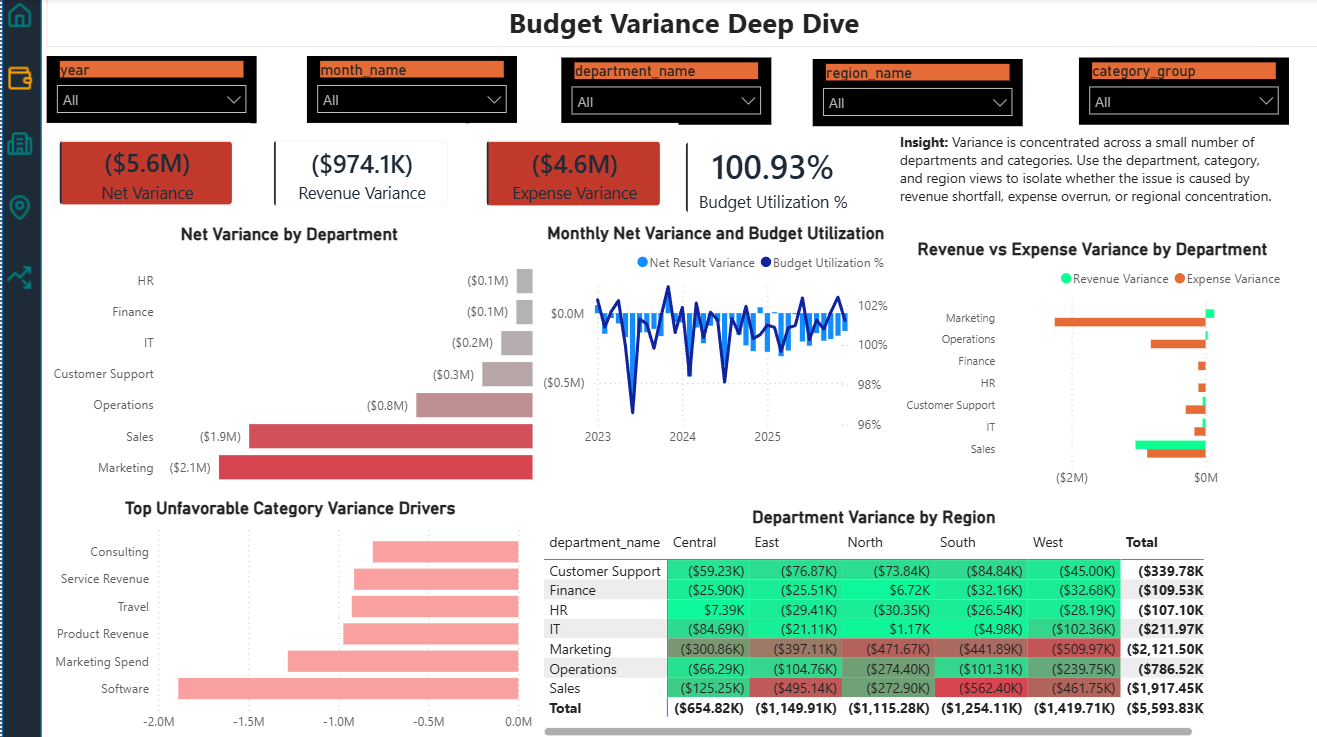

This screenshot's page, from the dashboard's own definition file:
{"tool":"powerbi","page":{"name":"Budget Variance Deep Dive","canvas":[1280,720],"ordinal":1},"visuals":[{"type":"shape","box":[0,0,38.3,720],"z":0,"group":"g1"},{"type":"slicer","fields":{"Values":["dim_date.year"]},"box":[42.7,56.9,203.9,65.2],"z":0},{"type":"slicer","fields":{"Values":["dim_date.month_name"]},"box":[296.3,56.9,203.9,65.2],"z":1000},{"type":"actionButton","box":[0,60,40,34.3],"z":1000,"group":"g1"},{"type":"slicer","fields":{"Values":["dim_department.department_name"]},"box":[542.8,58.1,203.9,65.2],"z":2000},{"type":"actionButton","box":[0,124.3,40,34.3],"z":2000,"group":"g1"},{"type":"slicer","fields":{"Values":["dim_region.region_name"]},"box":[785.8,59.3,203.9,65.2],"z":3000},{"type":"actionButton","box":[0,185.7,40,34.3],"z":3000,"group":"g1"},{"type":"slicer","fields":{"Values":["dim_category.category_group"]},"box":[1044.1,58.1,203.9,65.2],"z":4000},{"type":"actionButton","box":[0,254.3,40,34.3],"z":4000,"group":"g1"},{"type":"actionButton","box":[0,0,40,34.3],"z":5000,"group":"g1"},{"type":"textbox","box":[42.8,0,1236.4,47.1],"z":5000},{"type":"cardVisual","fields":{"Data":["_Measures.Net Variance"]},"box":[39.1,120.6,202.7,97.2],"z":6000},{"type":"cardVisual","fields":{"Data":["_Measures.Revenue Variance"]},"box":[246,120.6,203.2,98.2],"z":7000},{"type":"cardVisual","fields":{"Data":["_Measures.Expense Variance"]},"box":[453.4,120.6,203.2,98.2],"z":8000},{"type":"clusteredBarChart","title":"Net Variance by Department","fields":{"Y":["_Measures.Net Variance"],"Category":["dim_department.department_name"]},"box":[37.9,219.3,482.4,265.5],"z":9000},{"type":"clusteredBarChart","title":"Top Unfavorable Category Variance Drivers","fields":{"Category":["dim_category.category_name"],"Y":["_Measures.Unfavorable Net Result Variance"]},"box":[39.1,484.7,481.2,235.9],"z":10000},{"type":"clusteredBarChart","title":"Revenue vs Expense Variance by Department","fields":{"Category":["dim_department.department_name"],"Y":["_Measures.Revenue Variance","_Measures.Expense Variance"]},"box":[866.2,234.4,384,250],"z":11000},{"type":"lineClusteredColumnComboChart","title":"Monthly Net Variance and Budget Utilization","fields":{"Category":["vw_monthly_budget_vs_actual.month_start_fixed"],"Y":["_Measures.Net Variance"],"Y2":["_Measures.Budget Utilization %"]},"box":[520,218,346,226],"z":12000},{"type":"pivotTable","title":"Department Variance by Region","fields":{"Rows":["dim_department.department_name"],"Columns":["dim_region.region_name"],"Values":["_Measures.Net Variance"]},"box":[520.2,493.4,649.7,227.7],"z":13000},{"type":"textbox","box":[866.2,125,381.8,82.6],"z":14000},{"type":"actionButton","box":[0,686.5,40.2,33.5],"z":15000},{"type":"cardVisual","fields":{"Data":["_Measures.Budget Utilization %"]},"box":[646,122,203,103],"z":16000},{"type":"group","id":"g1","title":"Group 1","box":[0,0,40,720],"z":17000}]}

Visuals, with their boxes on the page's 1280x720 design canvas (x1, y1, x2, y2). These are canvas units, not pixel positions in the 1317x737 screenshot, which may show the page scaled, cropped or inside an application window:
shape: region(0, 0, 38, 720)
slicer - dim_date.year: region(43, 57, 247, 122)
slicer - dim_date.month_name: region(296, 57, 500, 122)
actionButton: region(0, 60, 40, 94)
slicer - dim_department.department_name: region(543, 58, 747, 123)
actionButton: region(0, 124, 40, 159)
slicer - dim_region.region_name: region(786, 59, 990, 124)
actionButton: region(0, 186, 40, 220)
slicer - dim_category.category_group: region(1044, 58, 1248, 123)
actionButton: region(0, 254, 40, 289)
actionButton: region(0, 0, 40, 34)
textbox: region(43, 0, 1279, 47)
cardVisual - _Measures.Net Variance: region(39, 121, 242, 218)
cardVisual - _Measures.Revenue Variance: region(246, 121, 449, 219)
cardVisual - _Measures.Expense Variance: region(453, 121, 657, 219)
"Net Variance by Department" clusteredBarChart: region(38, 219, 520, 485)
"Top Unfavorable Category Variance Drivers" clusteredBarChart: region(39, 485, 520, 721)
"Revenue vs Expense Variance by Department" clusteredBarChart: region(866, 234, 1250, 484)
"Monthly Net Variance and Budget Utilization" lineClusteredColumnComboChart: region(520, 218, 866, 444)
"Department Variance by Region" pivotTable: region(520, 493, 1170, 721)
textbox: region(866, 125, 1248, 208)
actionButton: region(0, 686, 40, 720)
cardVisual - _Measures.Budget Utilization %: region(646, 122, 849, 225)
"Group 1" group: region(0, 0, 40, 720)
